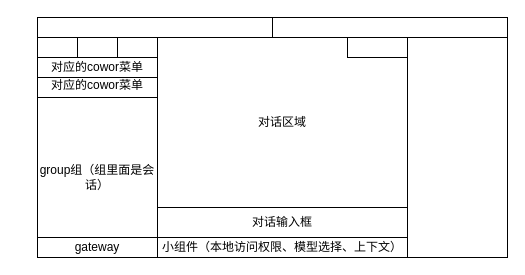
Some shapes in this 525 by 275 pixel diagram are drawn without their labels. Each missing label, with the box of its shape:
cowor code custom: (76, 36, 118, 58)
右侧多功能区域菜单: (346, 36, 408, 58)
右侧多功能区域（通过菜单打开），此区域可分上下两个窗口: (406, 36, 508, 258)
顶部栏左侧 顶部栏右侧: (36, 16, 508, 38)
